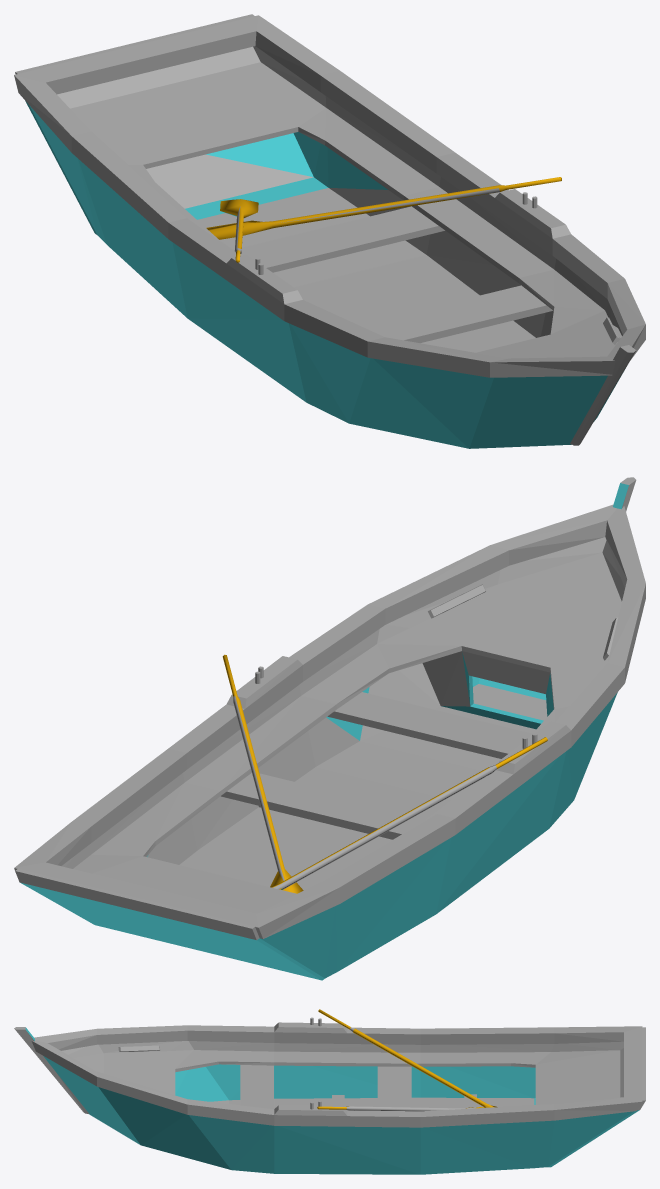
File: Boat.fbx
3 views of the same model, one above another, from view 1: azimuth 30°, elevation 25°; view 2: azimuth 150°, elevation 25°; view 3: azimuth 270°, elevation 25° (orthographic). The views are drawn at different scales.
Parts seen in each view (by area): view 1: OldBoat:Mesh; view 2: OldBoat:Mesh; view 3: OldBoat:Mesh.
Part boxes in pixels (box(x1,y1,x2,y2)): OldBoat:Mesh: box(14, 14, 645, 448); OldBoat:Mesh: box(14, 477, 645, 980); OldBoat:Mesh: box(14, 1009, 645, 1174).
Size of the model in its own units: 14.74 by 7.4 by 39.18.
